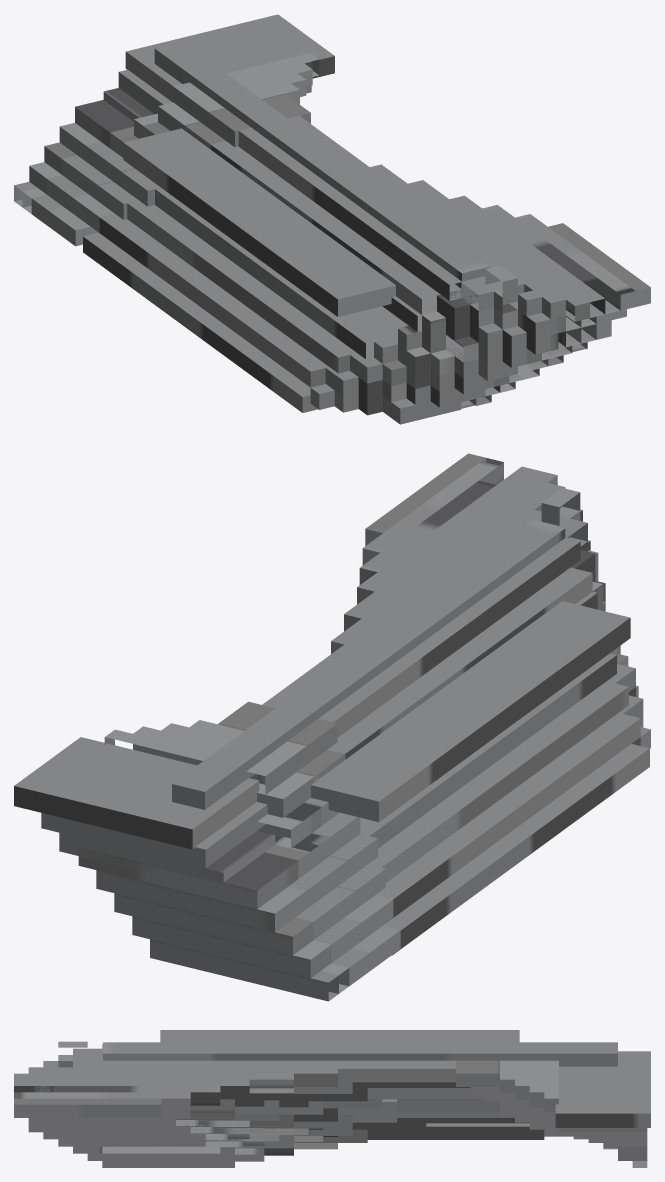
3 renders of one model, top to bottom at view 1: azimuth 30°, elevation 25°; view 2: azimuth 150°, elevation 25°; view 3: azimuth 270°, elevation 25°, orthographic. The views are drawn at different scales.
Bounding box in the file's own units: 1.09 × 0.5926 × 2.7.
